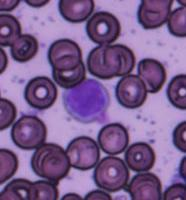L: (62, 77, 110, 123)
